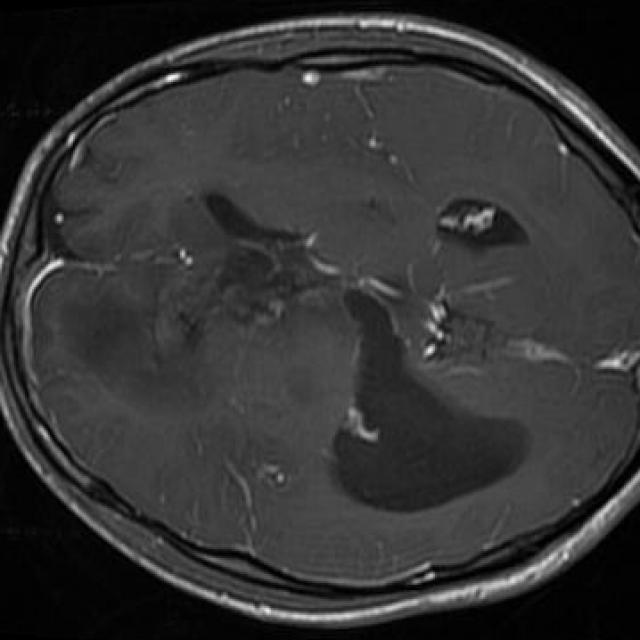glioma: (121, 196, 296, 351)
